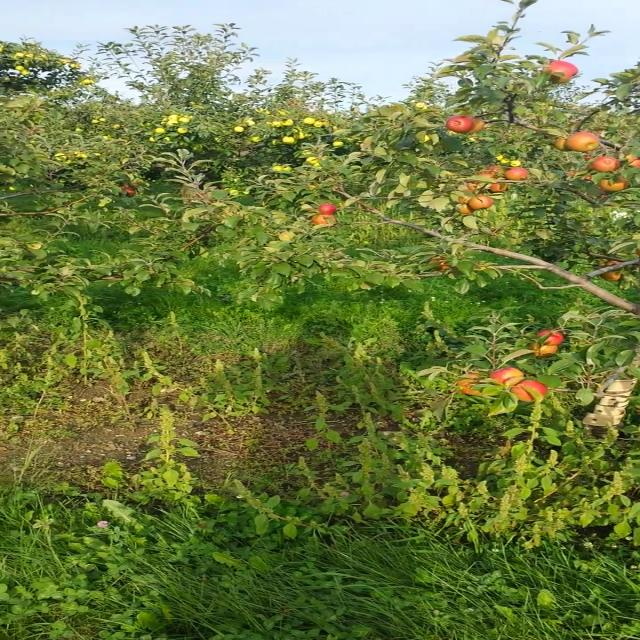apple: (543, 58, 580, 84), (487, 366, 525, 388), (507, 382, 548, 401), (457, 374, 494, 394), (566, 132, 600, 151), (524, 338, 556, 358), (446, 114, 475, 134), (533, 330, 563, 346), (592, 155, 620, 171), (426, 256, 456, 270), (598, 177, 630, 190), (469, 195, 494, 210), (310, 213, 337, 225), (504, 166, 527, 180), (488, 180, 509, 194), (468, 117, 486, 133), (455, 203, 477, 215), (598, 270, 622, 281), (554, 135, 570, 151), (116, 184, 134, 198), (316, 203, 337, 215), (455, 191, 474, 203), (591, 260, 606, 270), (466, 182, 484, 190), (486, 166, 502, 174), (626, 159, 639, 168), (473, 174, 491, 180), (625, 152, 635, 162), (606, 261, 622, 266), (466, 182, 484, 182), (484, 182, 486, 182)
